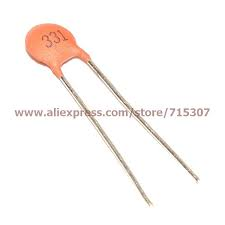ceramic capacitor: (9, 14, 115, 84)
